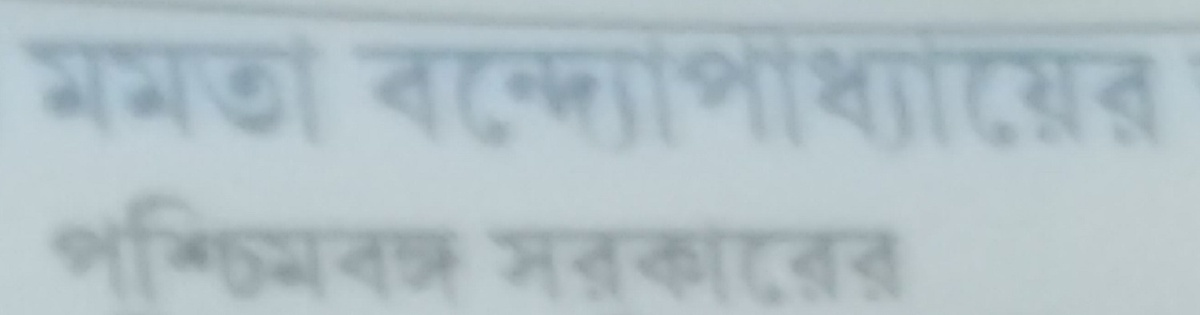text: (321, 25, 337, 155), (17, 25, 32, 155), (33, 25, 48, 155), (49, 25, 64, 155), (65, 25, 80, 155), (81, 25, 96, 155), (97, 25, 112, 155), (113, 25, 128, 155), (129, 25, 144, 155), (145, 25, 160, 155), (161, 25, 176, 155), (177, 25, 192, 155), (193, 25, 208, 155), (209, 25, 224, 155), (225, 25, 240, 155), (241, 25, 256, 155), (257, 25, 272, 155), (273, 25, 288, 155), (289, 25, 304, 155), (305, 25, 320, 155), (353, 36, 368, 158), (369, 36, 384, 158), (385, 36, 400, 158), (401, 36, 416, 158), (417, 36, 432, 158), (433, 36, 448, 158), (449, 36, 464, 158), (465, 36, 480, 158), (481, 36, 496, 158), (497, 36, 512, 158), (513, 36, 528, 158), (529, 36, 544, 158), (545, 36, 560, 158), (561, 36, 576, 158), (577, 36, 592, 158), (593, 36, 608, 158), (609, 36, 624, 158), (625, 36, 640, 158), (641, 36, 656, 158), (657, 36, 672, 158), (673, 36, 688, 158), (689, 36, 704, 158), (705, 36, 720, 158), (721, 36, 736, 158), (737, 36, 752, 158), (753, 36, 768, 158), (769, 36, 784, 158), (785, 36, 800, 158), (801, 36, 816, 158), (817, 36, 832, 158), (833, 36, 848, 158), (849, 36, 864, 158), (865, 36, 880, 158), (881, 36, 896, 158), (897, 36, 912, 158), (913, 36, 928, 158), (929, 36, 944, 158), (945, 36, 960, 158), (961, 36, 976, 158), (977, 36, 992, 158), (993, 36, 1008, 158), (1009, 36, 1024, 158), (1025, 36, 1040, 158), (1041, 36, 1056, 158), (1057, 36, 1072, 158), (1073, 36, 1088, 158), (1089, 36, 1104, 158), (1105, 36, 1120, 158), (1121, 36, 1136, 158), (1137, 36, 1152, 158), (1153, 36, 1168, 158), (49, 189, 64, 308), (65, 189, 80, 308), (81, 189, 96, 308), (97, 189, 112, 308), (113, 189, 128, 308), (129, 189, 144, 308), (145, 189, 160, 308), (161, 189, 176, 308), (177, 189, 192, 308), (193, 189, 208, 308), (209, 189, 224, 308), (225, 189, 240, 308), (241, 189, 256, 308), (257, 189, 272, 308), (273, 189, 288, 308), (289, 189, 304, 308), (305, 189, 320, 308), (321, 189, 336, 308), (337, 189, 352, 308), (353, 189, 368, 308), (369, 189, 384, 308), (385, 189, 400, 308), (401, 189, 416, 308), (417, 189, 432, 308), (433, 189, 448, 308), (449, 189, 464, 308), (481, 220, 496, 314), (497, 220, 512, 314), (513, 220, 528, 314), (529, 220, 544, 314), (545, 220, 560, 314), (561, 220, 576, 314), (577, 220, 592, 314), (593, 220, 608, 314), (609, 220, 624, 314), (625, 220, 640, 314), (641, 220, 656, 314), (657, 220, 672, 314), (673, 220, 688, 314), (689, 220, 704, 314), (705, 220, 720, 314), (721, 220, 736, 314), (737, 220, 752, 314), (753, 220, 768, 314), (769, 220, 784, 314), (785, 220, 800, 314), (801, 220, 816, 314), (817, 220, 832, 314), (833, 220, 848, 314), (849, 220, 864, 314), (865, 220, 880, 314), (881, 220, 896, 314), (897, 220, 912, 314), (37, 189, 48, 308), (1169, 36, 1178, 158), (9, 25, 16, 155), (346, 36, 352, 158), (465, 189, 469, 308), (477, 220, 480, 314), (913, 220, 914, 314)
